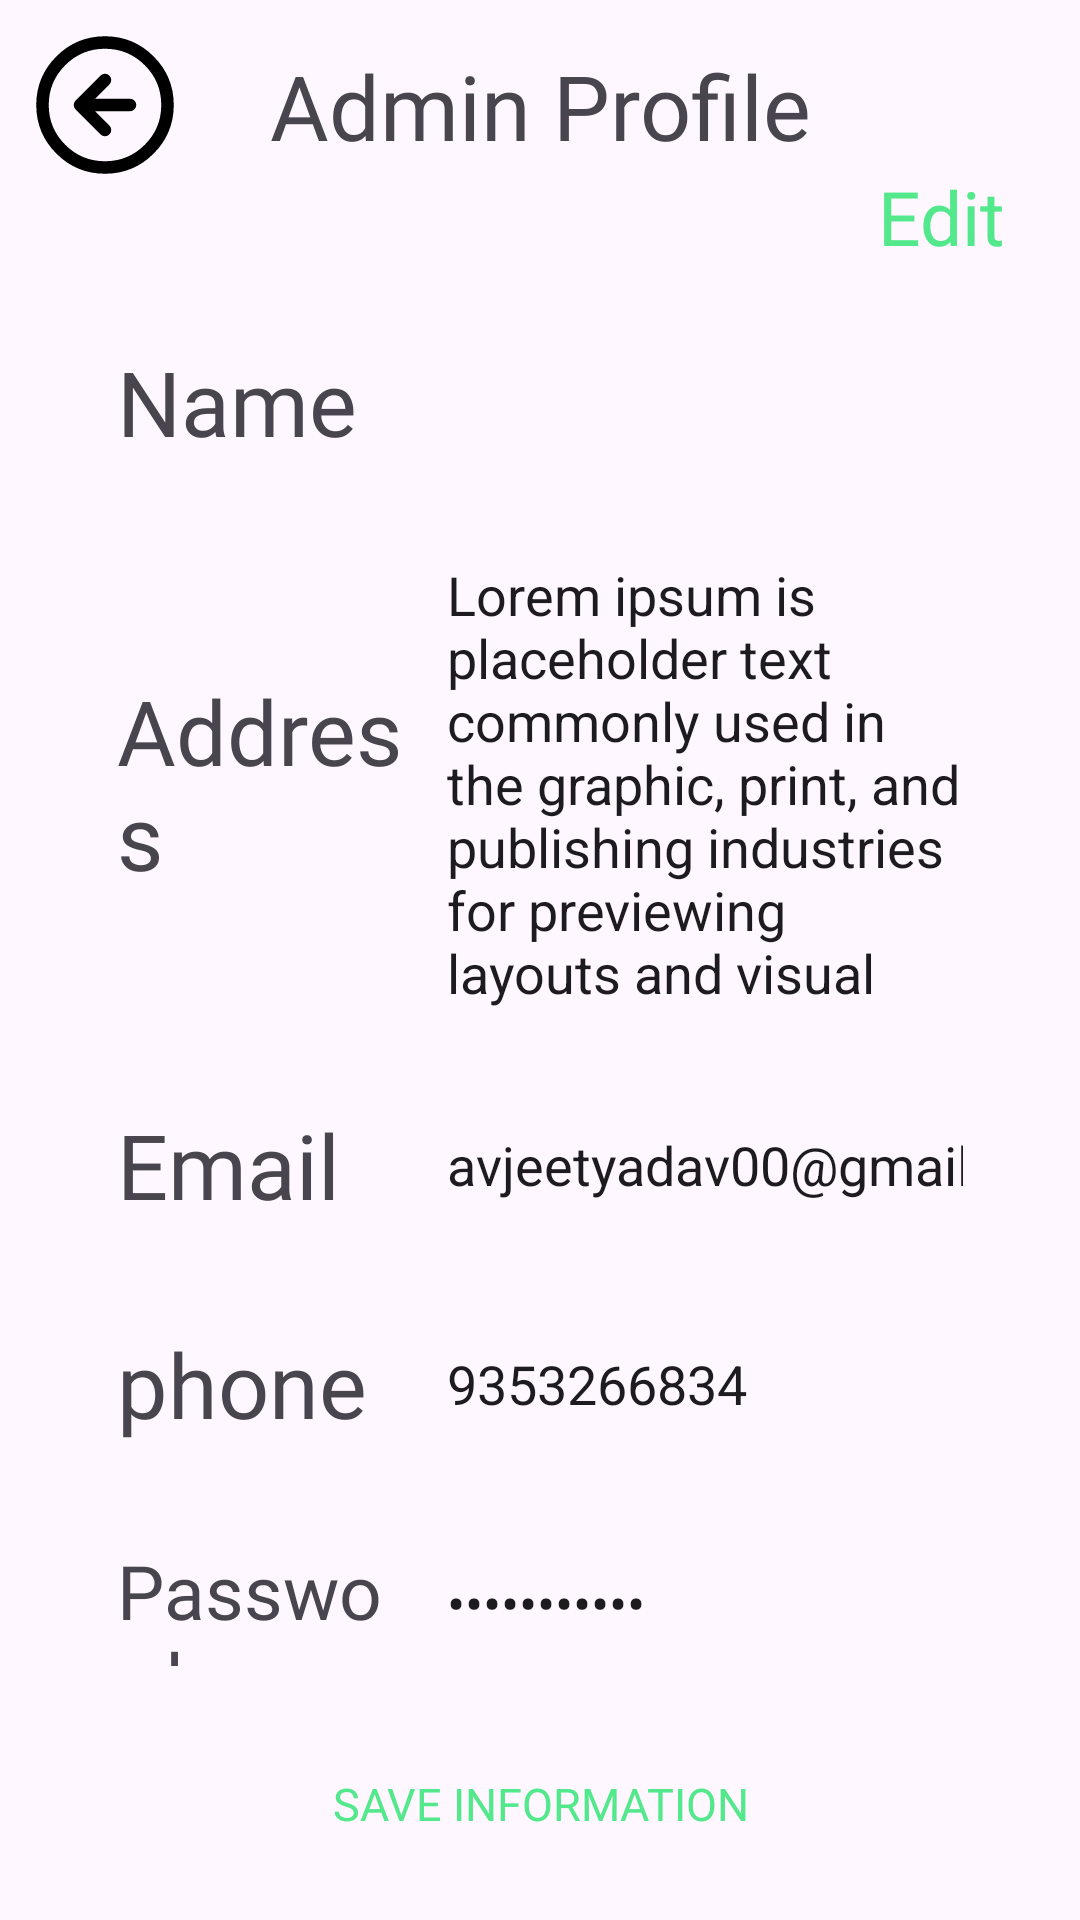

Locate icon controls on the screen. Image size 1080 × 1920, boxes as (x1, y1, x2, y2).
back: (36, 36, 174, 174)
